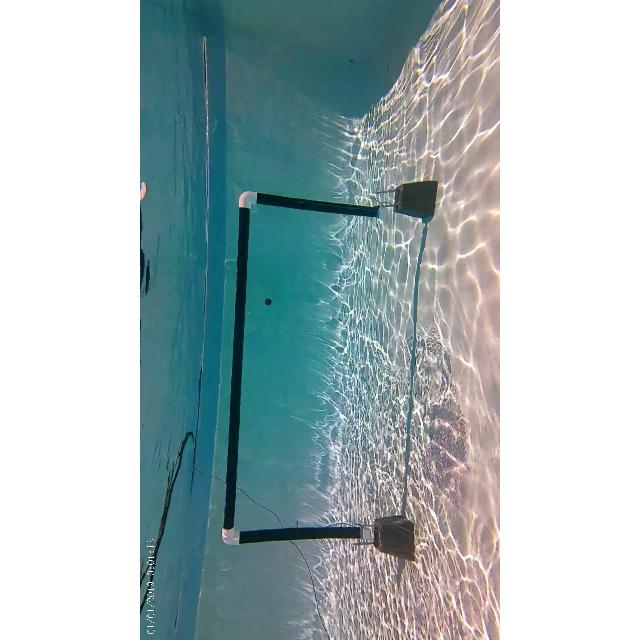prequal gate: (221, 192, 385, 550)
prequal gate leg l: (214, 514, 426, 566)
prequal gate leg r: (226, 184, 442, 226)
